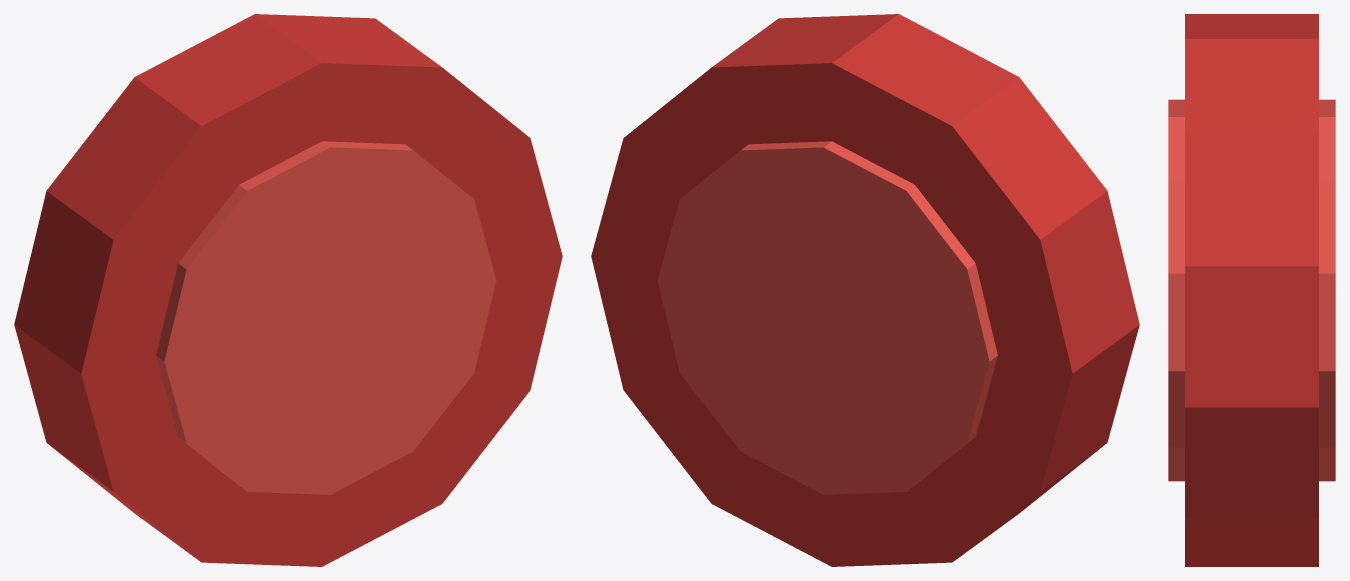
The model's file is token_red.gltf.
3 views of the same model, side by side, from view 1: azimuth 30°, elevation 25°; view 2: azimuth 150°, elevation 25°; view 3: azimuth 270°, elevation 25° (orthographic).
Visible parts, largest first — view 1: disc, inner; view 2: disc, inner; view 3: disc, inner.
Boxes of the visible parts, x1,y1,x2,y2 form: disc: (14, 14, 562, 566); inner: (156, 141, 496, 494); disc: (591, 14, 1139, 566); inner: (657, 141, 997, 494); disc: (1185, 14, 1318, 566); inner: (1168, 99, 1335, 481).
Bounding box in the file's own units: 0.058 × 0.058 × 0.0175.
Materials: 2 (2 with a texture image).
